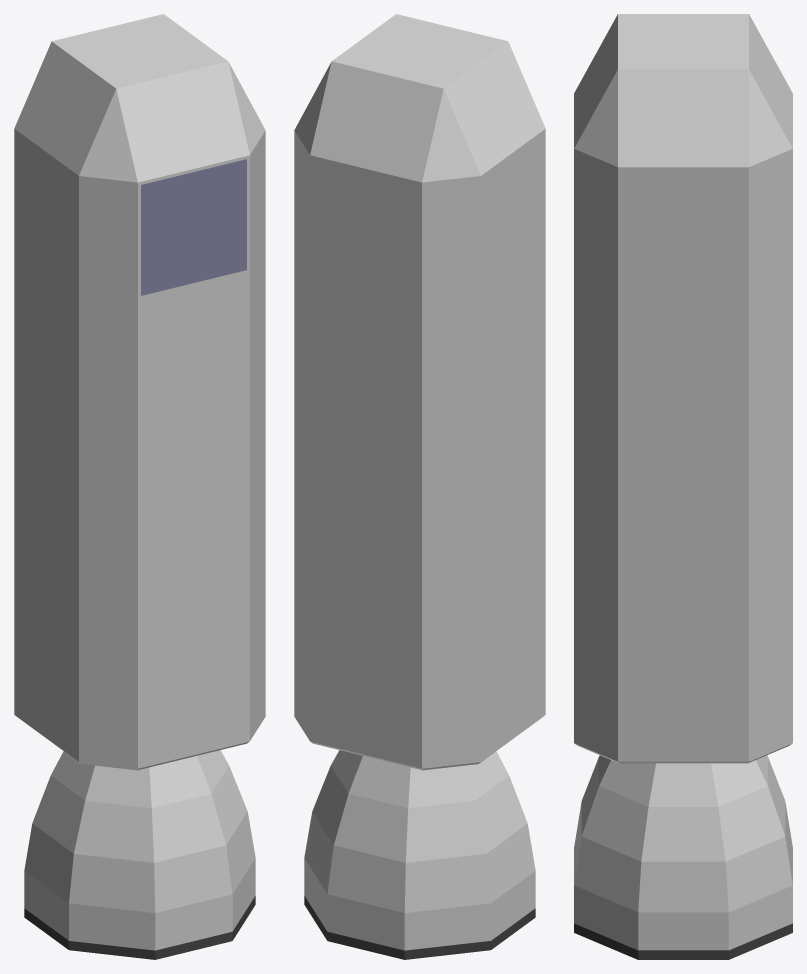
File: Ship.glb
The picture shows the model from 3 angles, left to right: view 1: azimuth 30°, elevation 25°; view 2: azimuth 150°, elevation 25°; view 3: azimuth 270°, elevation 25°; orthographic projection.
Visible parts, largest first — view 1: Rocket; view 2: Rocket; view 3: Rocket.
Part boxes in pixels (<box>): Rocket: <box>14,14,265,959</box>; Rocket: <box>294,14,545,959</box>; Rocket: <box>574,14,792,959</box>.
Size of the model in its own units: 1.25 by 5.5 by 1.25.
